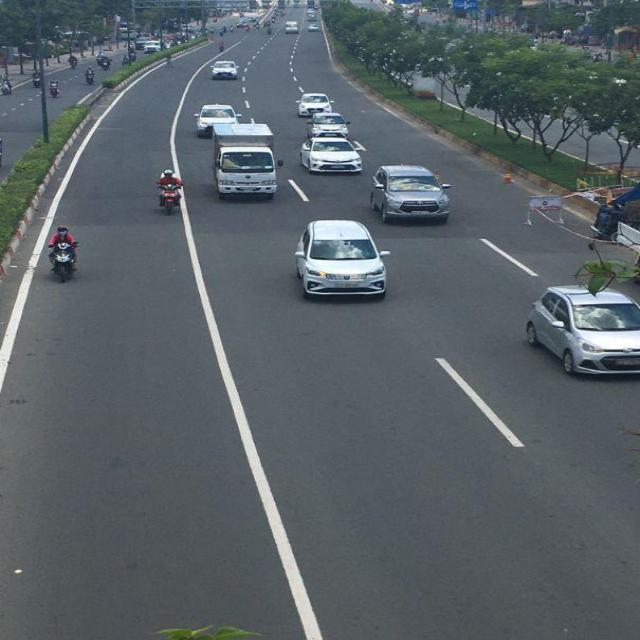car: (525, 281, 639, 377), (295, 218, 392, 301), (370, 166, 452, 227), (301, 137, 364, 176), (198, 105, 240, 136), (312, 114, 346, 140), (296, 92, 331, 117), (212, 61, 239, 80), (286, 21, 300, 35), (307, 22, 319, 32)
motorcycle: (48, 242, 77, 280), (156, 175, 184, 213)
truck: (215, 123, 278, 202)
